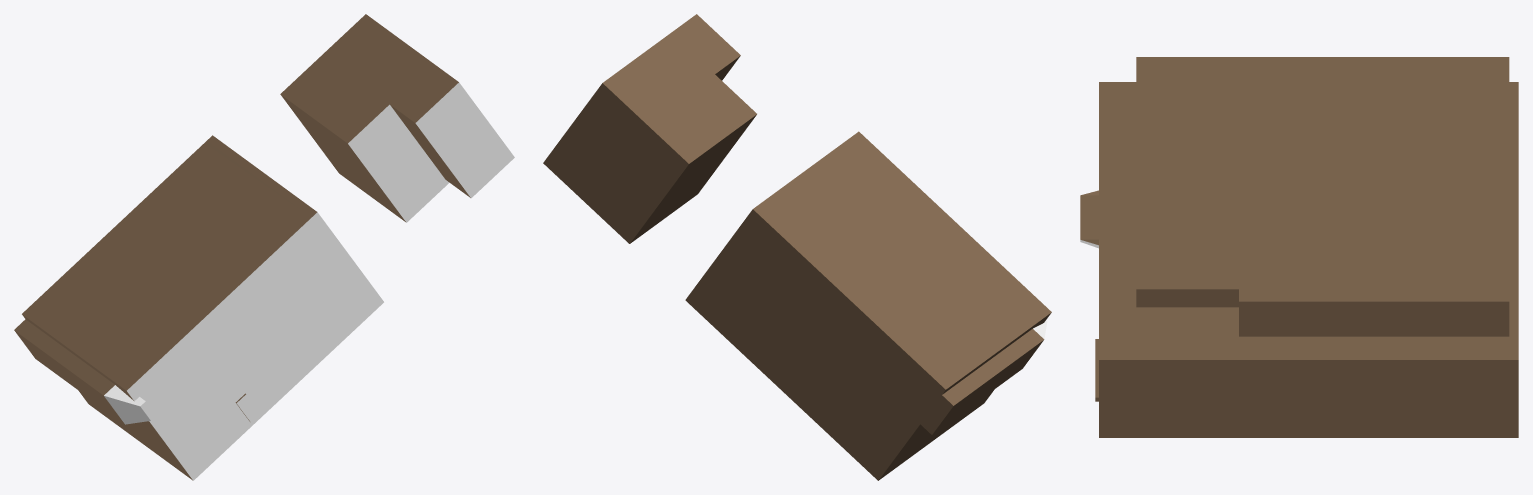
The picture shows the model from 3 angles, left to right: view 1: azimuth 30°, elevation 25°; view 2: azimuth 150°, elevation 25°; view 3: azimuth 270°, elevation 25°; orthographic projection. The views are drawn at different scales.
Parts seen in each view (by area): view 1: City_1884412; view 2: City_1884412; view 3: City_1884412.
Boxes of the visible parts, x1,y1,x2,y2 form: City_1884412: [14, 14, 514, 480]; City_1884412: [543, 14, 1051, 480]; City_1884412: [1080, 57, 1518, 437].
Bounding box in the file's own units: 2522 × 1916 × 1172.
